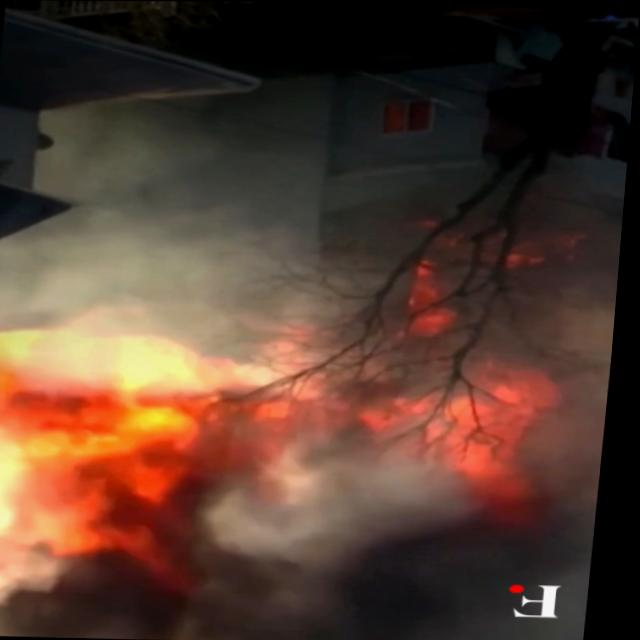Fire: (0, 352, 221, 583), (424, 371, 572, 525)
Smoke: (182, 423, 530, 640), (0, 114, 310, 347)
